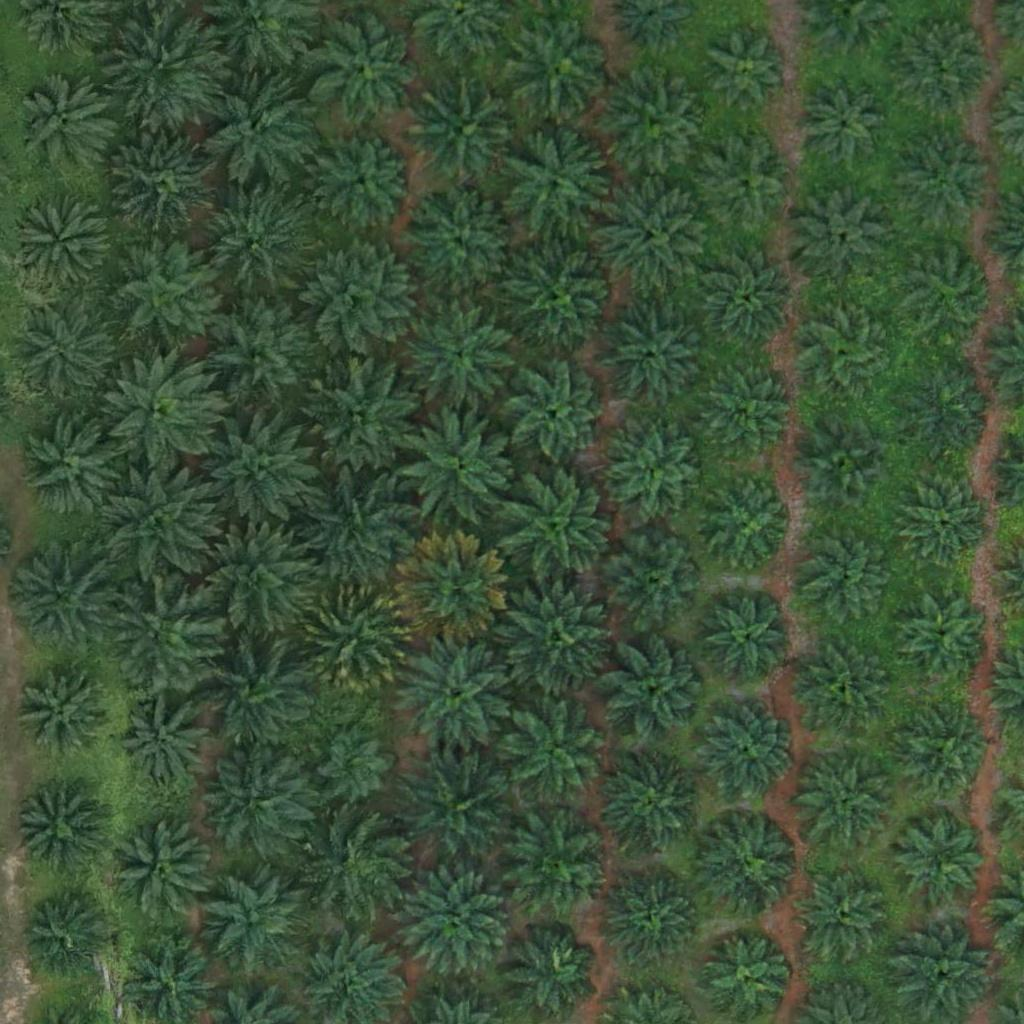Kelapa_Sawit: (398, 872, 511, 986), (5, 541, 118, 655), (109, 12, 222, 125), (110, 129, 223, 242), (203, 74, 316, 187), (197, 185, 310, 298), (205, 300, 318, 413), (305, 240, 418, 353), (308, 354, 421, 467), (307, 472, 420, 585), (498, 127, 611, 240), (596, 179, 709, 292), (599, 299, 712, 412), (500, 700, 613, 813), (396, 533, 509, 646), (298, 582, 411, 695), (398, 634, 511, 747), (395, 752, 508, 865), (105, 469, 217, 583), (199, 639, 311, 753), (203, 742, 315, 856), (108, 575, 220, 689), (105, 238, 217, 351), (104, 359, 216, 472), (207, 411, 319, 524), (310, 14, 422, 127), (412, 80, 524, 193), (405, 186, 517, 299), (405, 305, 517, 418), (402, 411, 514, 524), (505, 245, 617, 358), (506, 469, 618, 582), (499, 582, 611, 695), (196, 526, 308, 639), (16, 74, 116, 175), (11, 192, 111, 293), (316, 131, 416, 232), (506, 365, 606, 466), (698, 360, 798, 461), (893, 12, 993, 113), (898, 133, 998, 234), (893, 587, 993, 688), (894, 703, 994, 804), (799, 523, 899, 624), (796, 640, 896, 741), (795, 749, 895, 850), (794, 866, 894, 967), (695, 700, 795, 801), (700, 813, 800, 914), (605, 531, 705, 632), (603, 640, 703, 741), (601, 756, 701, 857), (603, 866, 703, 967), (511, 810, 611, 911), (202, 871, 302, 972), (111, 820, 211, 921), (21, 306, 121, 406), (23, 419, 123, 519), (508, 15, 608, 115), (606, 75, 706, 175), (694, 133, 794, 233), (792, 181, 892, 281), (901, 242, 1001, 342), (900, 362, 1000, 462), (500, 922, 600, 1022), (307, 815, 407, 915), (800, 82, 888, 170), (799, 304, 887, 392), (802, 423, 890, 511), (902, 479, 990, 567), (20, 893, 108, 981), (611, 429, 698, 517), (706, 253, 793, 341), (897, 815, 984, 903), (702, 482, 789, 570), (705, 597, 792, 685), (121, 698, 208, 786), (21, 665, 108, 753), (14, 787, 101, 875), (710, 30, 785, 106), (316, 726, 391, 802)
